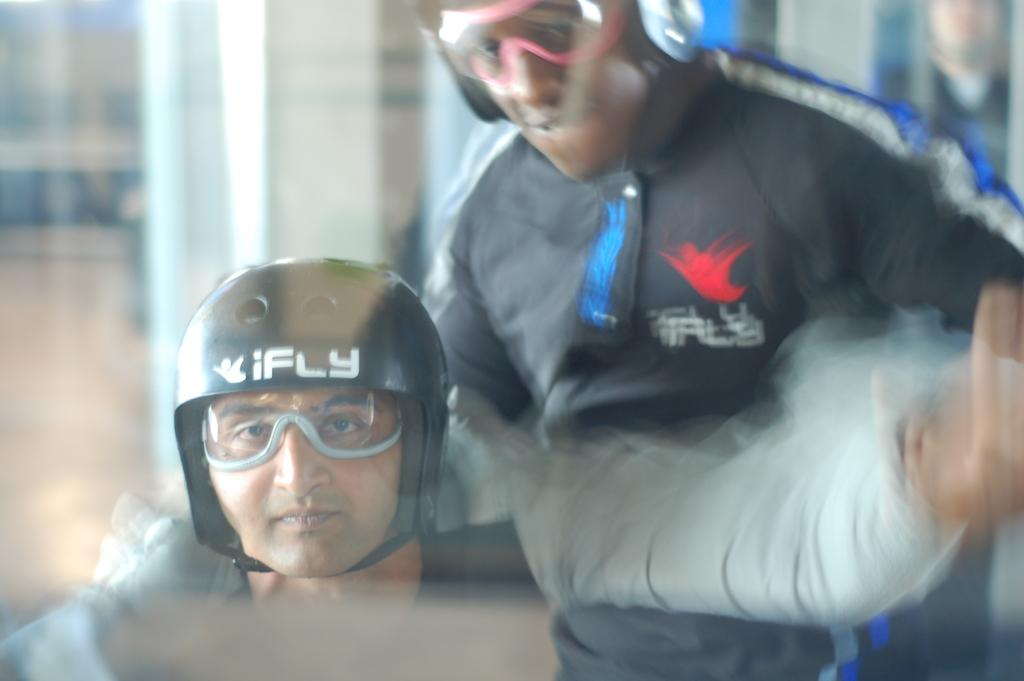helmet: (172, 257, 450, 572)
